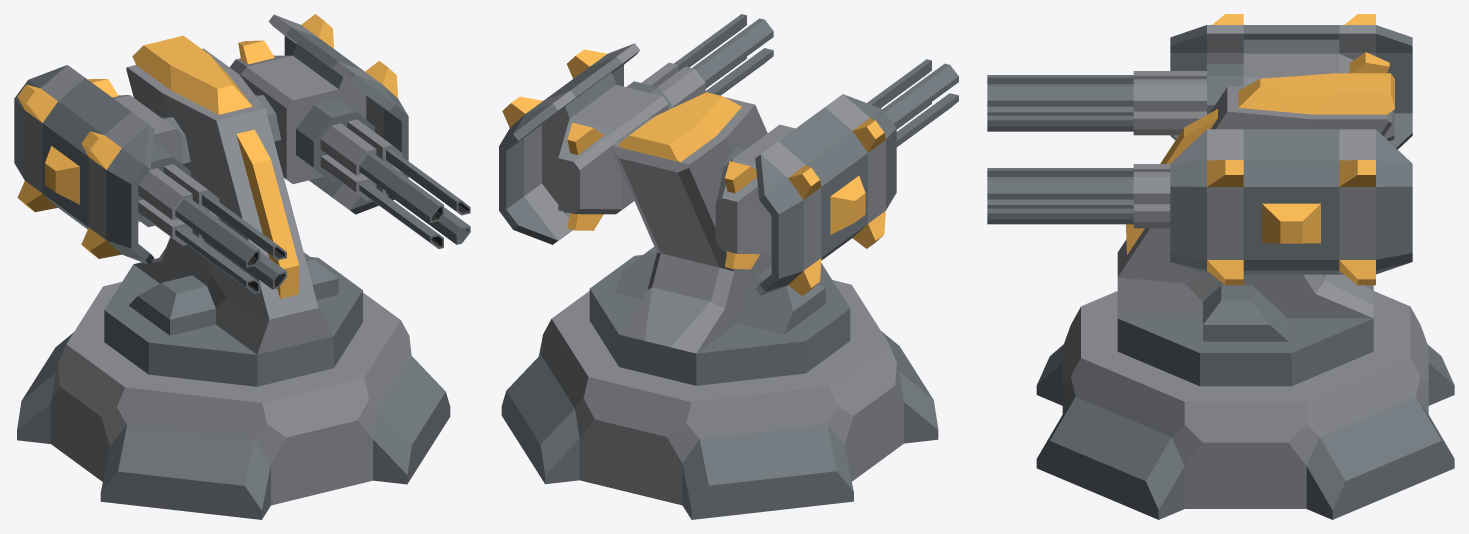
File: Large Dual Gatling Turret.fbx
3 views of the same model, side by side, from view 1: azimuth 30°, elevation 25°; view 2: azimuth 150°, elevation 25°; view 3: azimuth 270°, elevation 25° (orthographic). The views are drawn at different scales.
Parts seen in each view (by area): view 1: Base, Turret.006, TurretHeadRight.001, TurretHeadLeft.001, CannonLeft, CannonRight, BarrelLeft1.001, BarrelLeft1, BarrelLeft4.001, BarrelLeft2.001, BarrelLeft2, BarrelLeft4 (+2 smaller); view 2: Base, Turret.006, TurretHeadRight.001, TurretHeadLeft.001, BarrelLeft1, CannonLeft, BarrelLeft1.001, BarrelLeft2, BarrelLeft4.001, BarrelLeft4, BarrelLeft2.001; view 3: Base, Turret.006, TurretHeadLeft.001, TurretHeadRight.001, CannonRight, BarrelLeft2, BarrelLeft2.001, BarrelLeft3, BarrelLeft3.001, CannonLeft, BarrelLeft4, BarrelLeft1.001 (+2 smaller).
Boxes of the visible parts, box(x1,y1,x2,y2) form: Base: box(17, 282, 450, 519); Turret.006: box(104, 35, 362, 386); TurretHeadRight.001: box(14, 65, 182, 264); TurretHeadLeft.001: box(229, 14, 408, 214); CannonLeft: box(296, 99, 402, 200); CannonRight: box(138, 144, 219, 245); BarrelLeft1.001: box(175, 198, 260, 267); BarrelLeft1: box(359, 153, 443, 222); BarrelLeft4.001: box(175, 227, 260, 293); BarrelLeft2.001: box(202, 193, 286, 260); BarrelLeft2: box(386, 149, 470, 215); BarrelLeft4: box(359, 182, 443, 248); Base: box(501, 280, 938, 519); Turret.006: box(589, 92, 850, 385); TurretHeadRight.001: box(715, 94, 896, 295); TurretHeadLeft.001: box(499, 43, 668, 244); BarrelLeft1: box(692, 18, 773, 86); CannonLeft: box(626, 62, 705, 109); BarrelLeft1.001: box(882, 63, 958, 127); BarrelLeft2: box(674, 14, 746, 70); BarrelLeft4.001: box(896, 93, 958, 146); BarrelLeft4: box(705, 48, 773, 95); BarrelLeft2.001: box(867, 59, 931, 108); Base: box(1036, 291, 1454, 519); Turret.006: box(1117, 73, 1394, 386); TurretHeadLeft.001: box(1170, 129, 1412, 285); TurretHeadRight.001: box(1170, 14, 1412, 149); CannonRight: box(1133, 63, 1243, 135); BarrelLeft2: box(987, 177, 1133, 199); BarrelLeft2.001: box(987, 84, 1133, 106); BarrelLeft3: box(987, 208, 1133, 224); BarrelLeft3.001: box(987, 115, 1133, 131); CannonLeft: box(1133, 164, 1170, 228); BarrelLeft4: box(987, 199, 1133, 208); BarrelLeft1.001: box(987, 75, 1133, 84).
Bounding box in the file's own units: 114 × 107 × 128.
